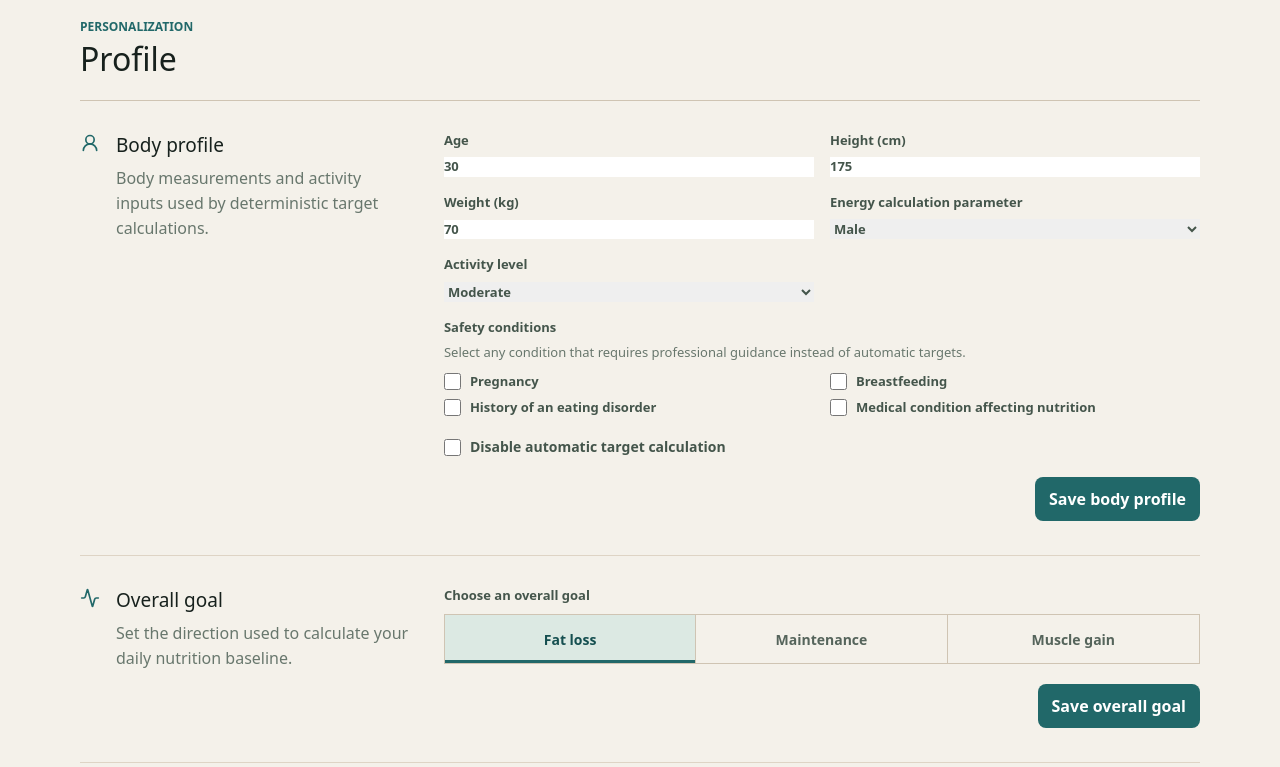
Test: Profile › saves the overall goal as a preview without confirming it
The image size is (1280, 767).
Step 1. Click the radio button labelled "Maintenance" → [822, 639], box [696,615,948,663]
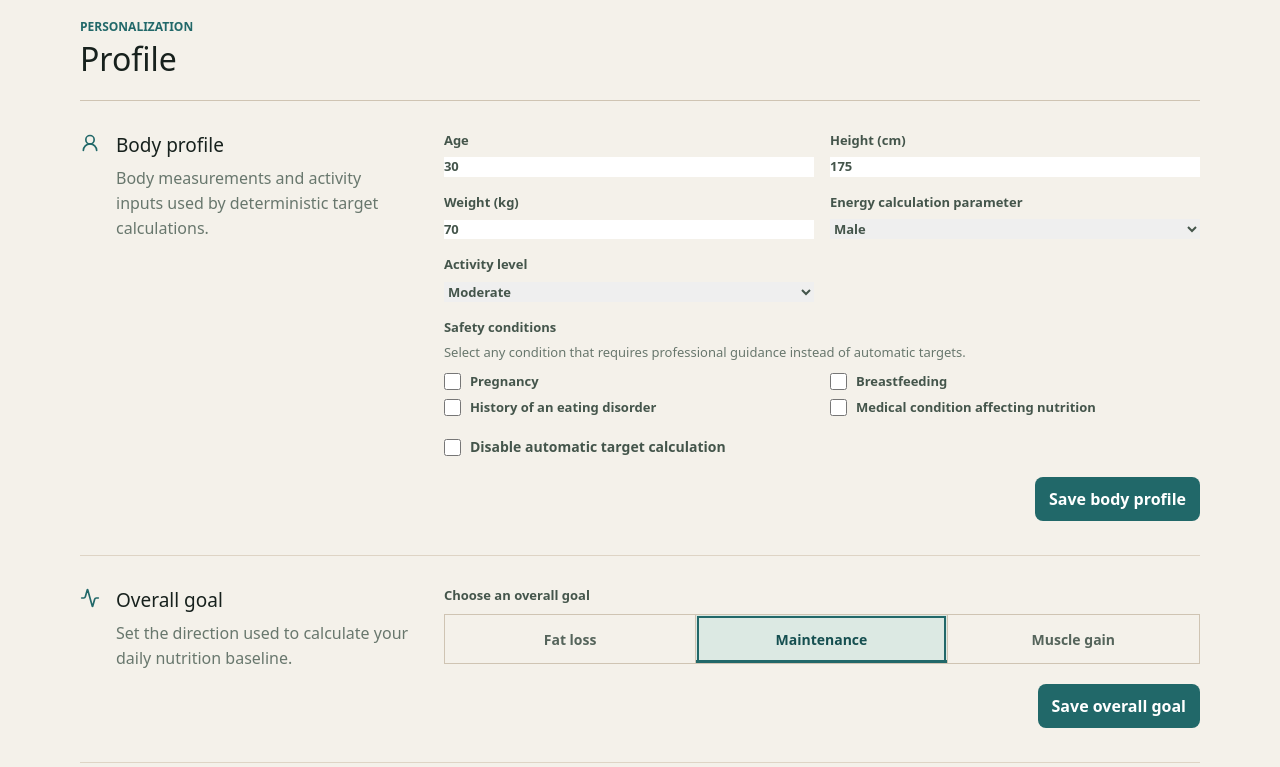
Step 2. Click the button "Save overall goal" → [1119, 706], box [1038,684,1200,728]
(page scrolled)
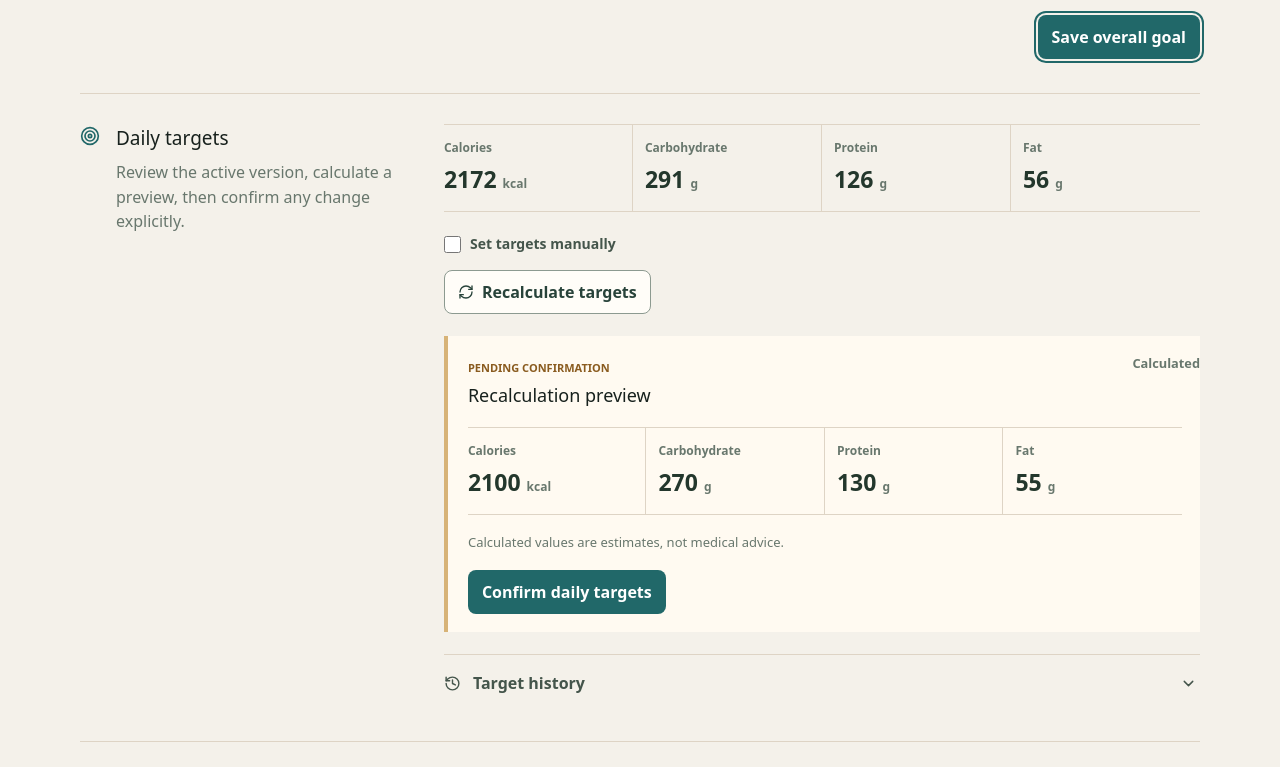
Check: the text "Pending confirmation" is shown, box [468,360,610,375]
